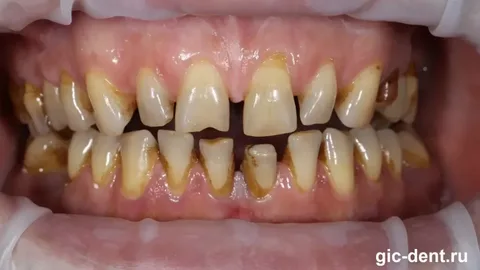LL1BC_decay: (351, 125, 384, 183)
LL2BC_decay: (379, 128, 405, 179)
LLCI_decay: (241, 143, 282, 200)
LLC_decay: (323, 127, 354, 198)
LLLI_decay: (283, 126, 324, 196)
LR1BC_decay: (89, 135, 117, 188)
LR2BC_decay: (66, 131, 91, 178)
LRCI_decay: (195, 135, 240, 201)
LRC_decay: (118, 130, 156, 200)
LRLI_decay: (157, 132, 194, 200)
ULCI_healthy: (235, 54, 298, 138)
ULC_decay: (335, 57, 377, 129)
ULLI_healthy: (296, 51, 336, 127)
UR1BC_decay: (56, 72, 95, 129)
UR2BC_healthy: (41, 80, 67, 134)
URCI_decay: (174, 58, 235, 133)
URC_decay: (88, 65, 136, 138)
URLI_healthy: (136, 63, 174, 127)
